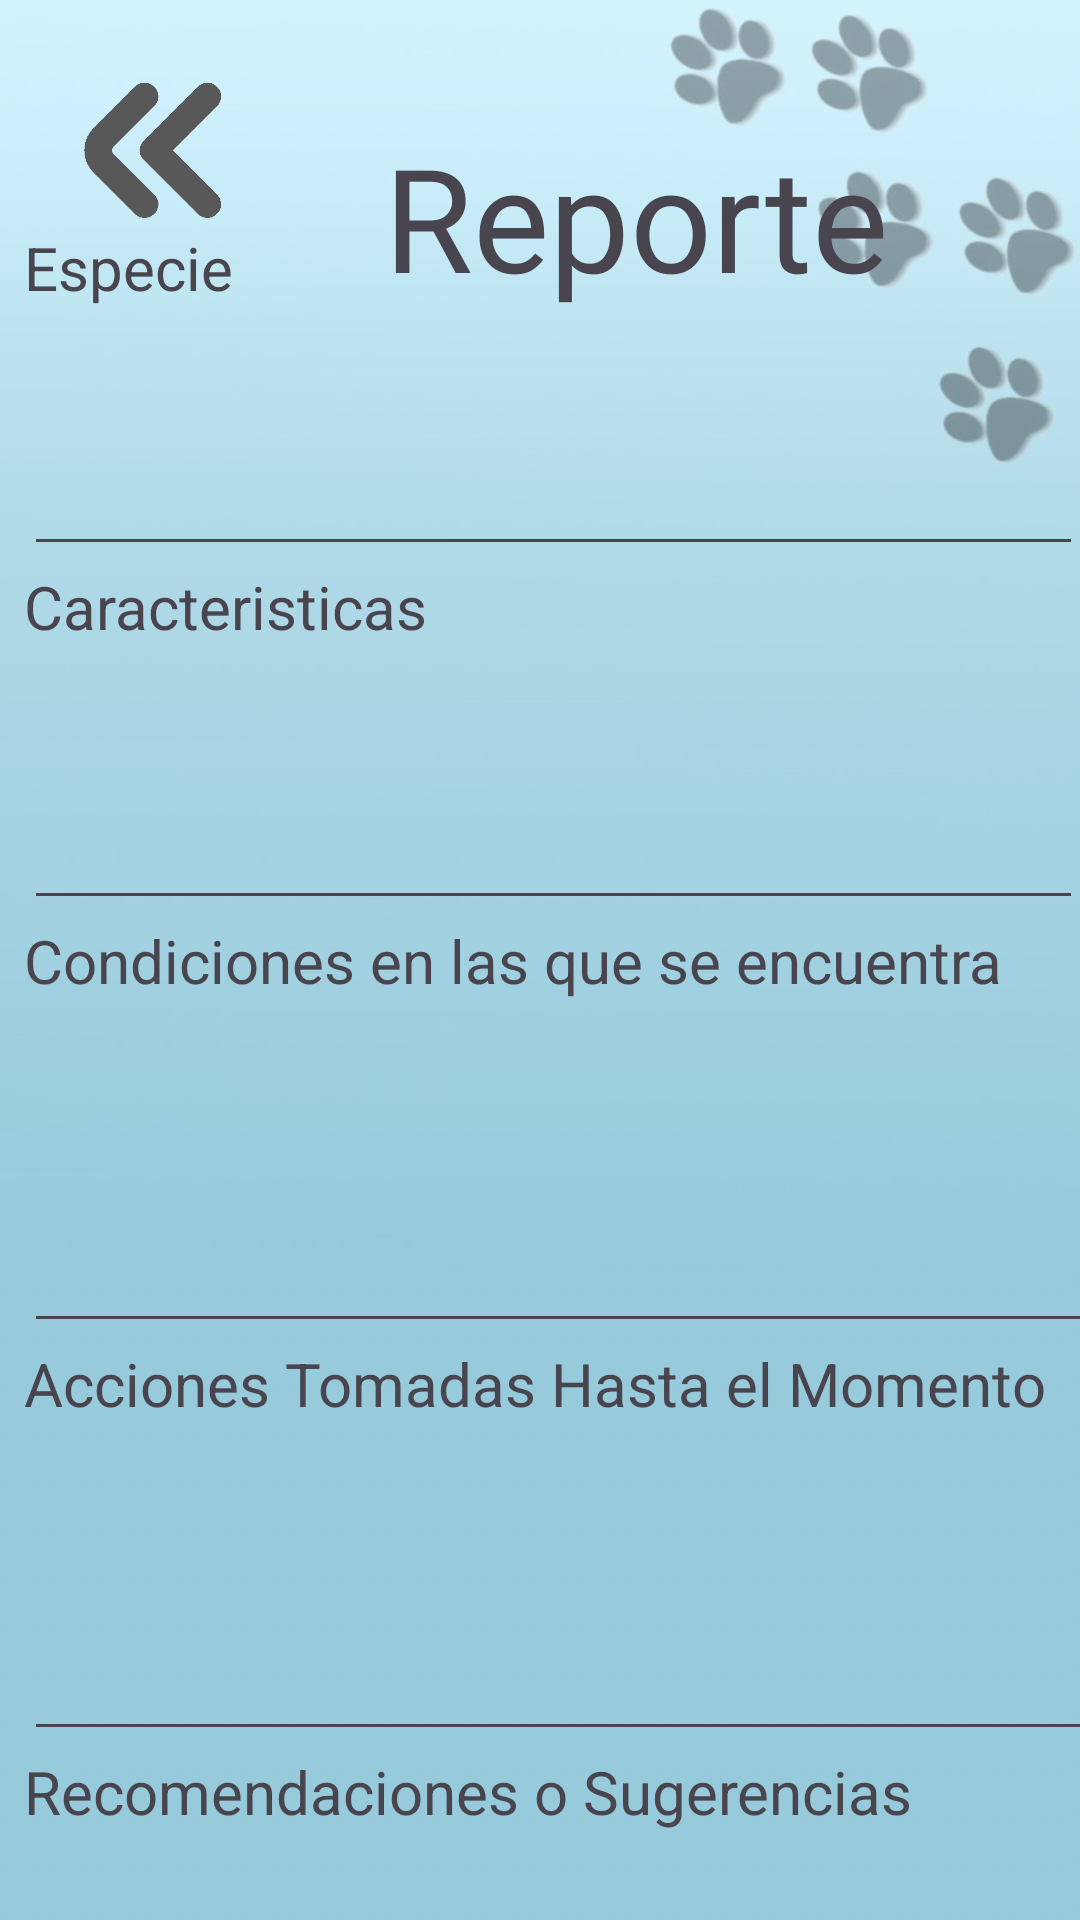

Named icons in this screenshot (1080 x 1920) and their bounding boxes, rect(x1, y1, x2, y2):
regresar: rect(84, 83, 221, 254)
